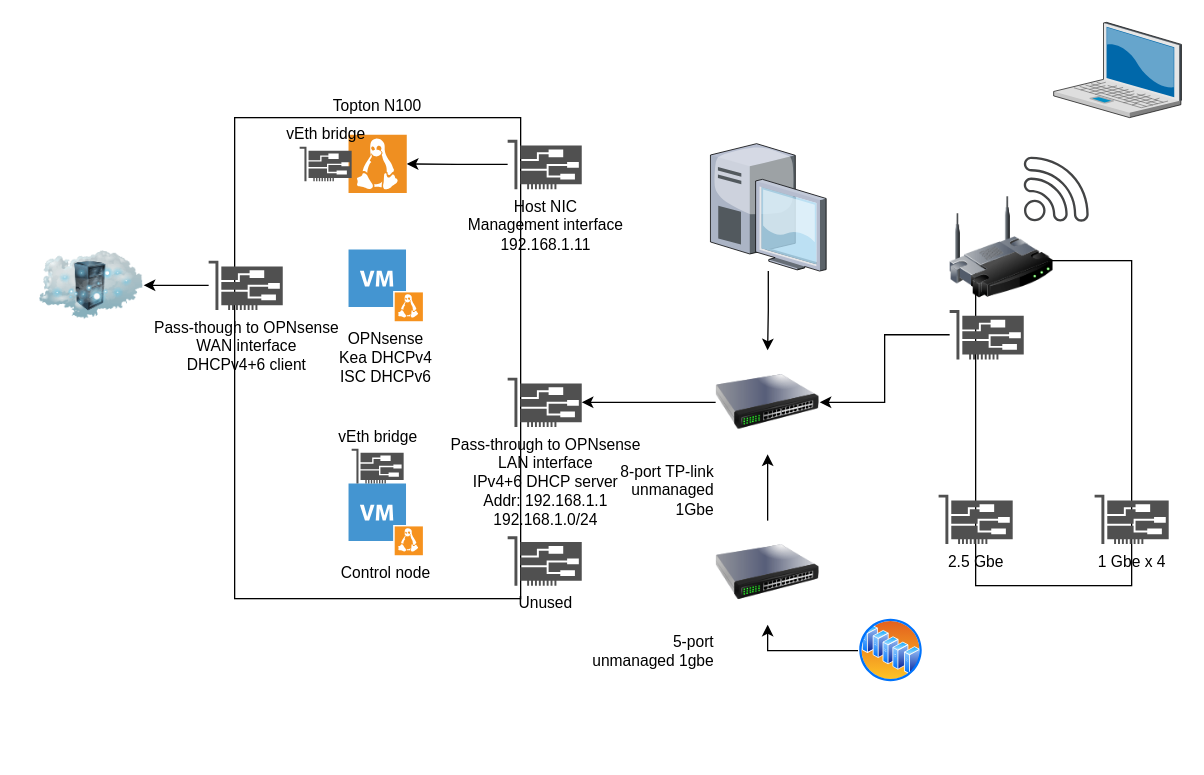
Image size: 1204x775. Some labels were removed from this diagram. Here are the shapes that lost their labels. From the top down, the centre of each, then its label:
At (1117,69): "Asstd devices DHCPv4 client IPv6 SLAAC".
At (377,163): "Proxmox host OS".
At (768,206): "Main desktop IPv4 DHCP client IPv6 SLAAC".
At (91,285): "ISP Semi-static IPv4 /48 Delegated prefix".
At (986,334): "WAN IPv4 static 192.168.1.2 IPv6 SLAAC with PD".
At (890,650): "Worker machines IPv4 DHCP client IPv6 SLAAC".
